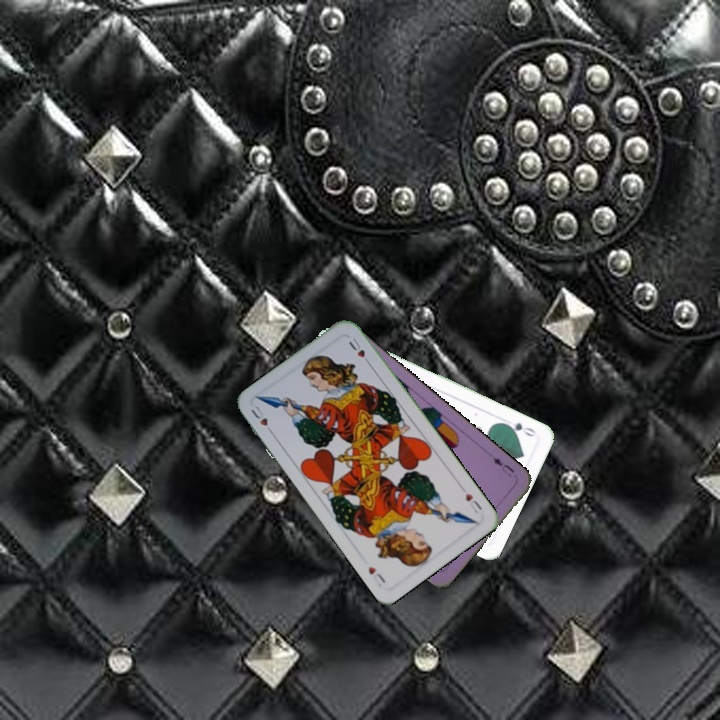EU: (488, 453, 517, 479)
GO: (500, 418, 538, 439)
HU: (247, 401, 276, 437), (461, 489, 485, 516)
